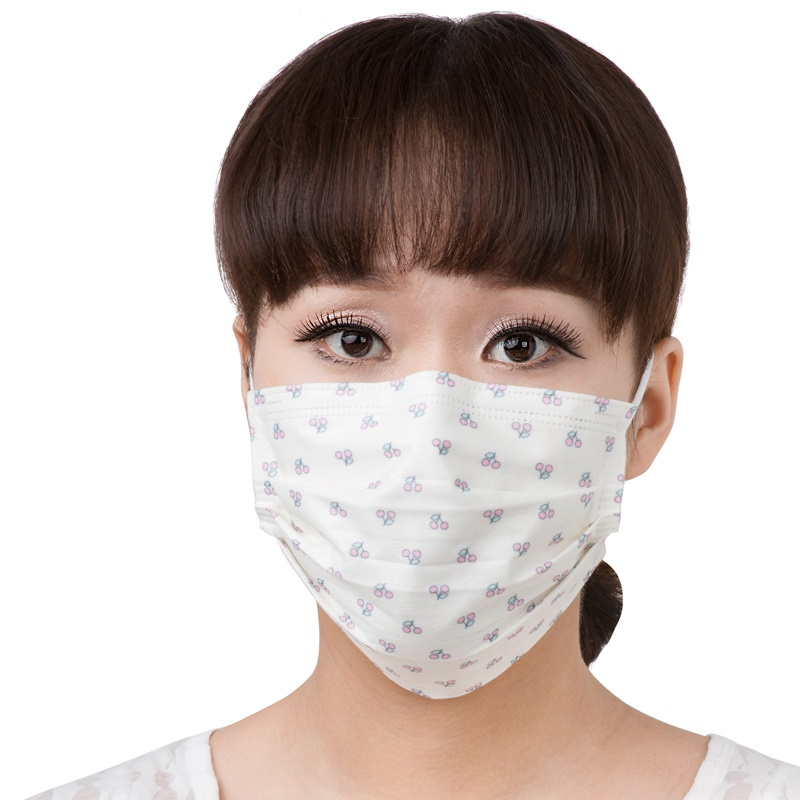face_mask: (253, 166, 615, 639)
